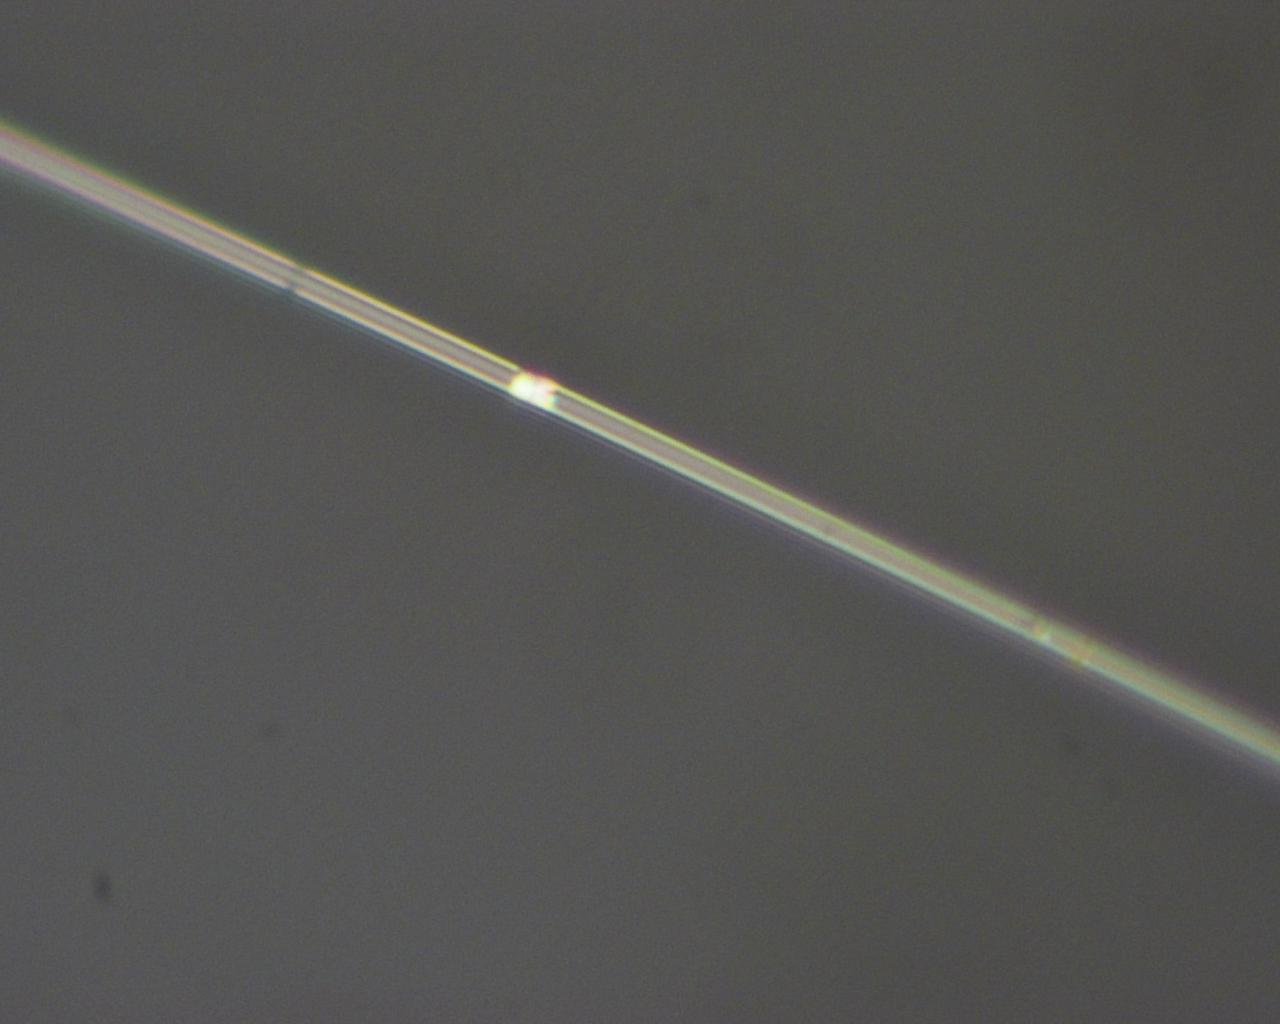fiber: (0, 126, 1280, 767)
